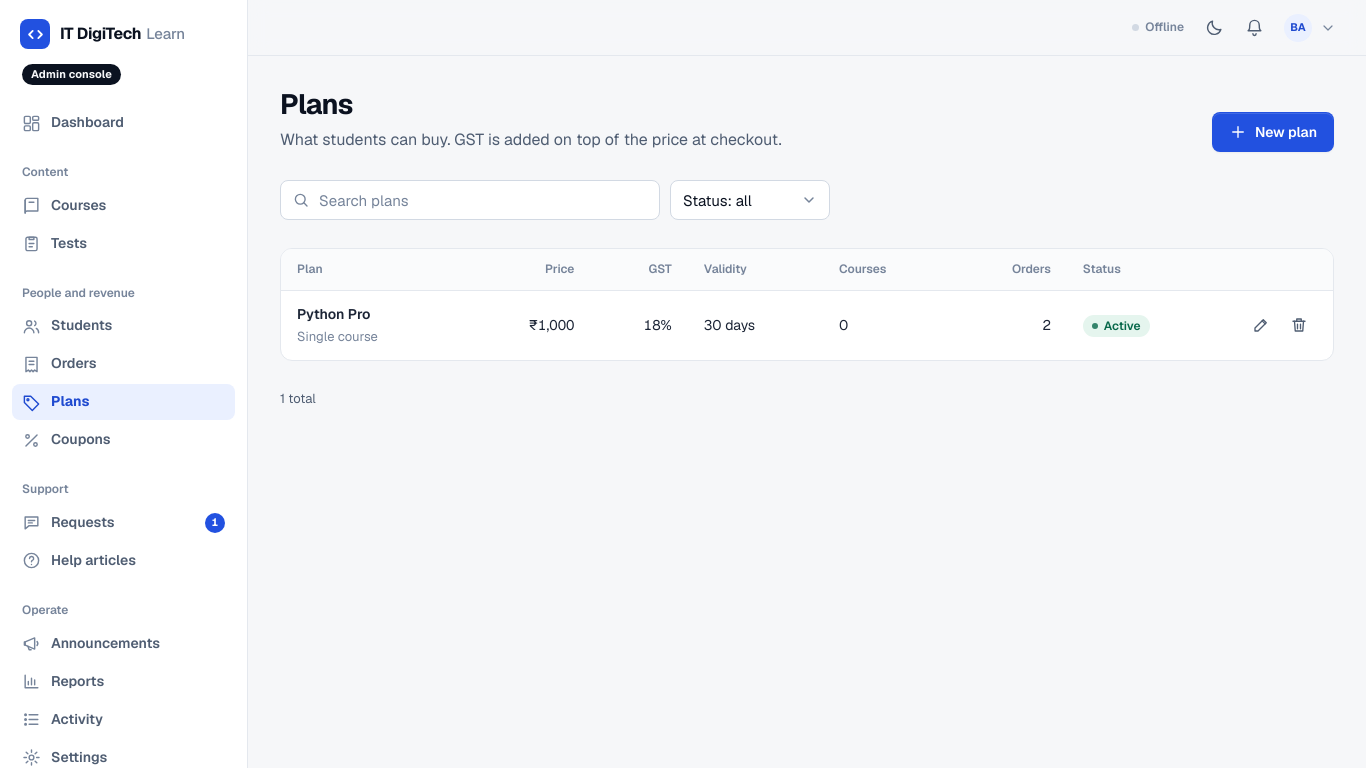
Test: admin console › lists plans and opens the create form
Expected: the text "Python Pro" is shown, [297,305,370,323]
Click the button "New plan" at point(1273, 132), box [1212,112,1334,152]
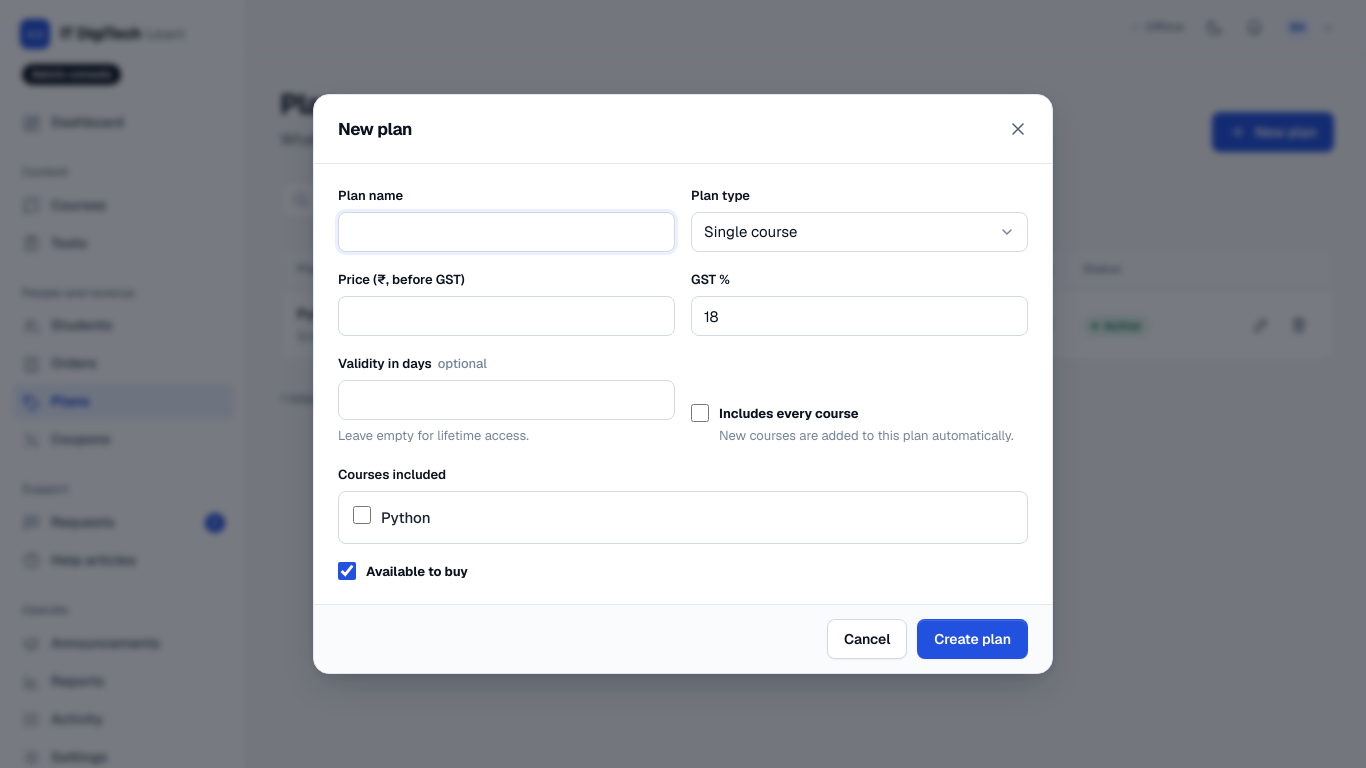
Now the field labelled "Plan name" is shown, box [338,212,675,252]
